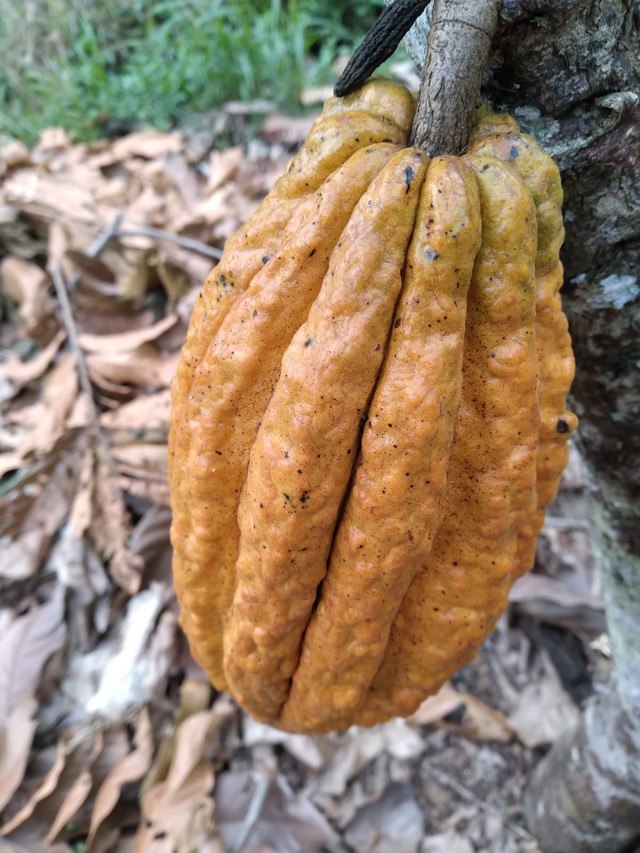Health: (155, 64, 588, 741)
